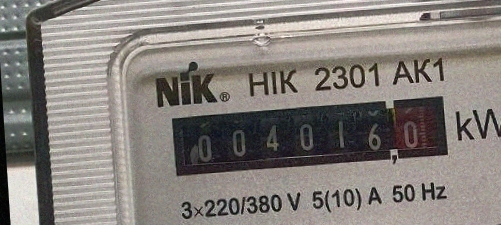0: (294, 118, 317, 155), (192, 130, 216, 164), (227, 125, 248, 160), (398, 117, 420, 150)
1: (332, 115, 349, 150)
4: (261, 120, 281, 155)
6: (362, 118, 383, 151)
screen: (163, 89, 456, 184)
